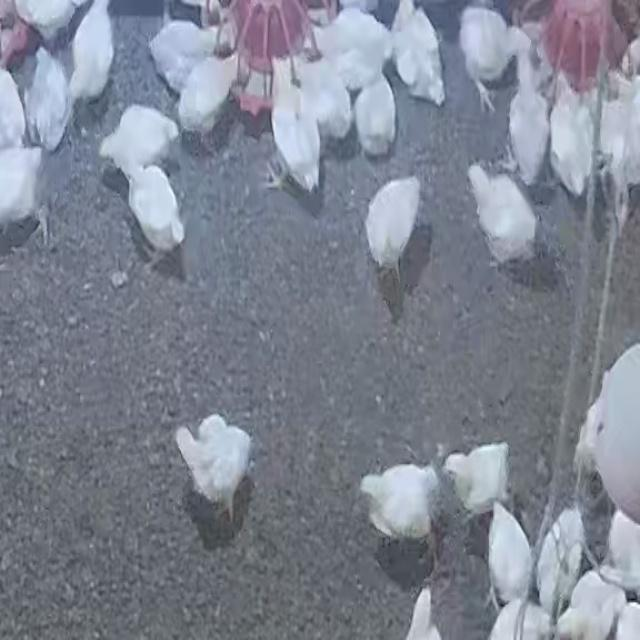chicken: (466, 164, 538, 270), (174, 416, 254, 508), (358, 463, 442, 548), (457, 3, 525, 103), (268, 79, 322, 199), (318, 8, 393, 93), (391, 0, 450, 107), (507, 41, 549, 188), (597, 74, 639, 221), (100, 104, 180, 179), (126, 163, 186, 262), (175, 53, 238, 146), (68, 0, 119, 110), (147, 20, 218, 98), (546, 84, 592, 200), (364, 175, 419, 271), (444, 440, 514, 515), (295, 57, 352, 148), (533, 509, 582, 611), (0, 146, 48, 248), (487, 504, 535, 603), (25, 49, 70, 149), (559, 574, 623, 640), (354, 78, 396, 158), (14, 0, 78, 49), (486, 598, 556, 640), (603, 509, 640, 585), (407, 588, 445, 640)
